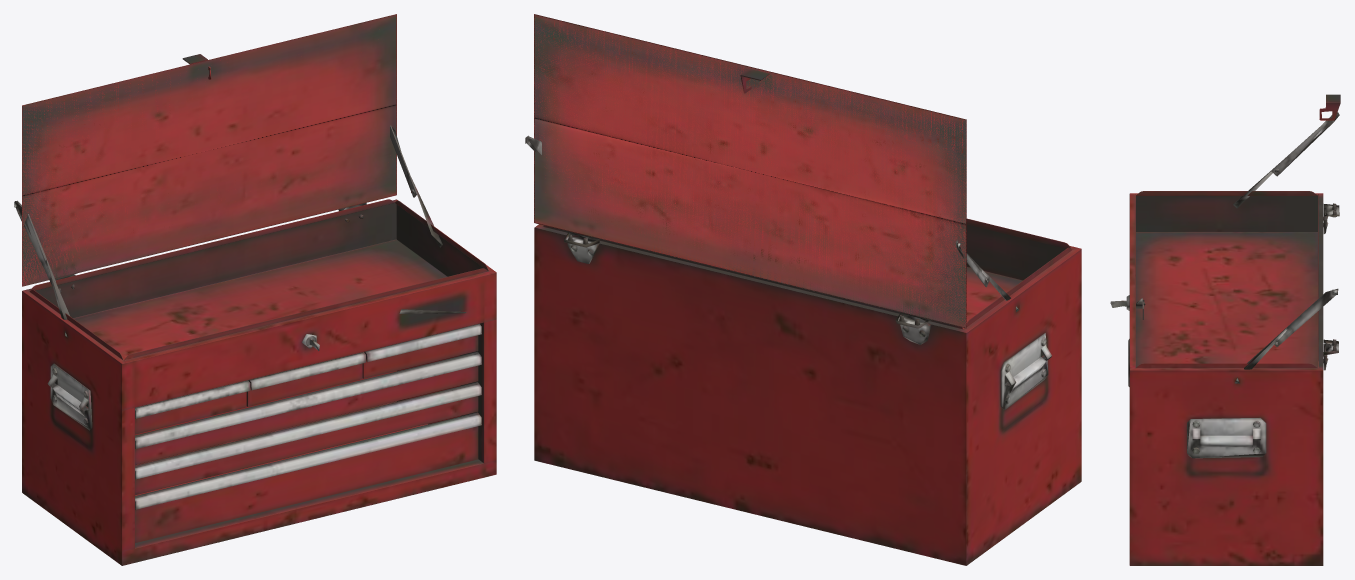
The model's file is metal_tool_chest.glb.
3 renders of one model, left to right at view 1: azimuth 30°, elevation 25°; view 2: azimuth 150°, elevation 25°; view 3: azimuth 270°, elevation 25°, orthographic. The views are drawn at different scales.
Parts seen in each view (by area): view 1: metal_tool_chest_chest; view 2: metal_tool_chest_chest; view 3: metal_tool_chest_chest.
Part boxes in pixels (left/top/right/bottom): metal_tool_chest_chest: left=14, top=14, right=496, bottom=565; metal_tool_chest_chest: left=525, top=14, right=1081, bottom=565; metal_tool_chest_chest: left=1110, top=94, right=1340, bottom=565.
Size of the model in its own units: 0.6847 by 0.6518 by 0.3625.
1 material, 1 textured.
